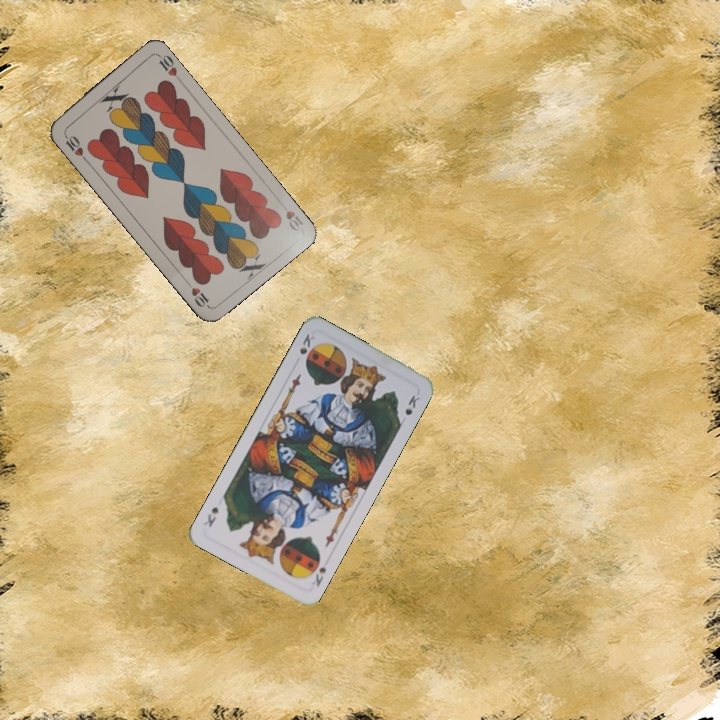H10: (275, 197, 306, 234), (60, 130, 90, 164)
SK: (295, 330, 317, 357), (308, 563, 329, 590)
